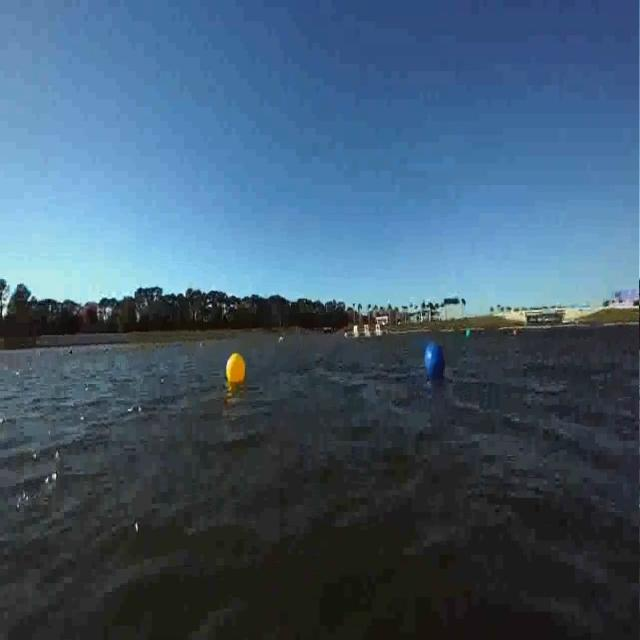blue-buoy: (422, 338, 448, 381)
yellow-buoy: (228, 353, 248, 386)
